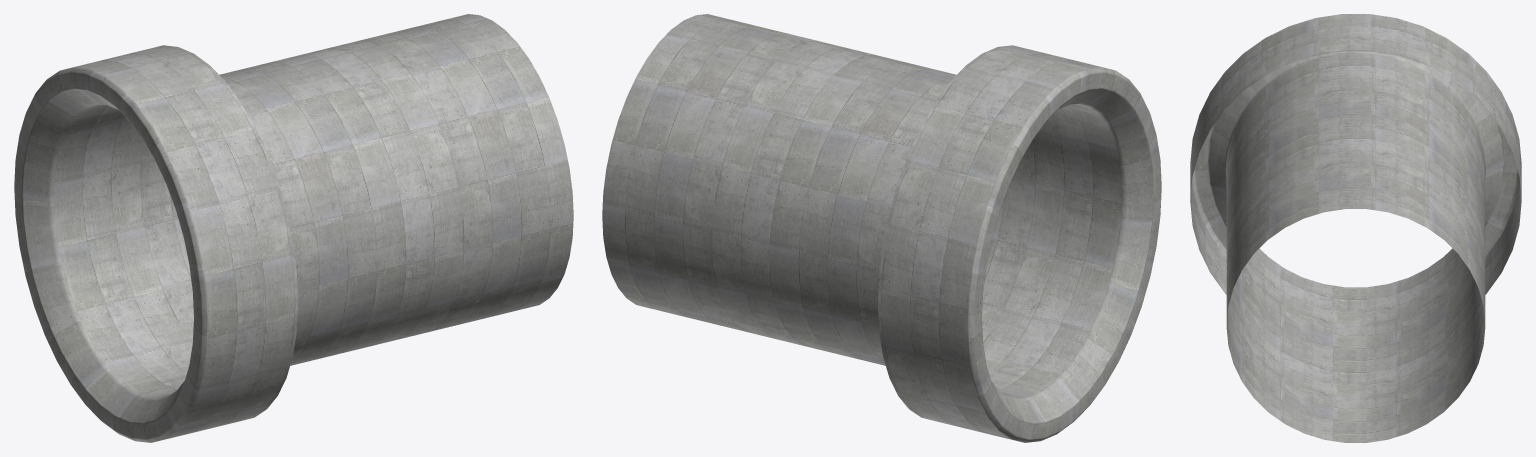
File: tunnel_3m_segment_Pipe.fbx
The picture shows the model from 3 angles, left to right: view 1: azimuth 30°, elevation 25°; view 2: azimuth 150°, elevation 25°; view 3: azimuth 270°, elevation 25°; orthographic projection. The views are drawn at different scales.
Parts seen in each view (by area): view 1: tunnel_3m_segment_Pipe; view 2: tunnel_3m_segment_Pipe; view 3: tunnel_3m_segment_Pipe.
Part boxes in pixels (x1=…): tunnel_3m_segment_Pipe: x1=14, y1=14, x2=573, y2=442; tunnel_3m_segment_Pipe: x1=602, y1=14, x2=1161, y2=442; tunnel_3m_segment_Pipe: x1=1190, y1=14, x2=1521, y2=442.
Size of the model in its own units: 900 by 765 by 768.
1 material, 1 textured.
